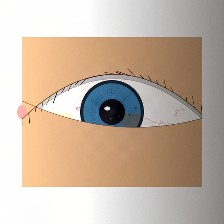pinguecula_lesion: (39, 98, 85, 135)
